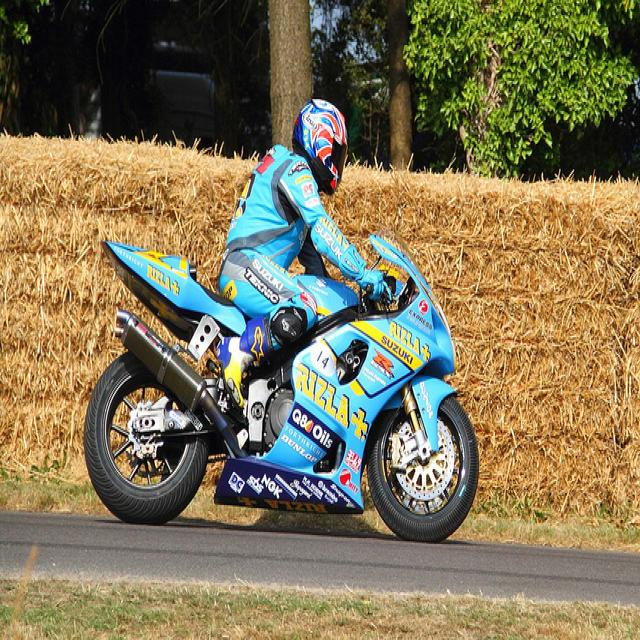motor: (83, 234, 481, 541)
